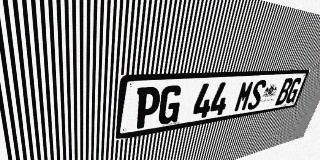4: (191, 83, 216, 120), (208, 82, 232, 117)
B: (275, 78, 294, 106)
G: (157, 85, 184, 126), (284, 77, 303, 104)
M: (233, 80, 255, 113)
P: (133, 86, 162, 129)
S: (246, 80, 268, 110)
